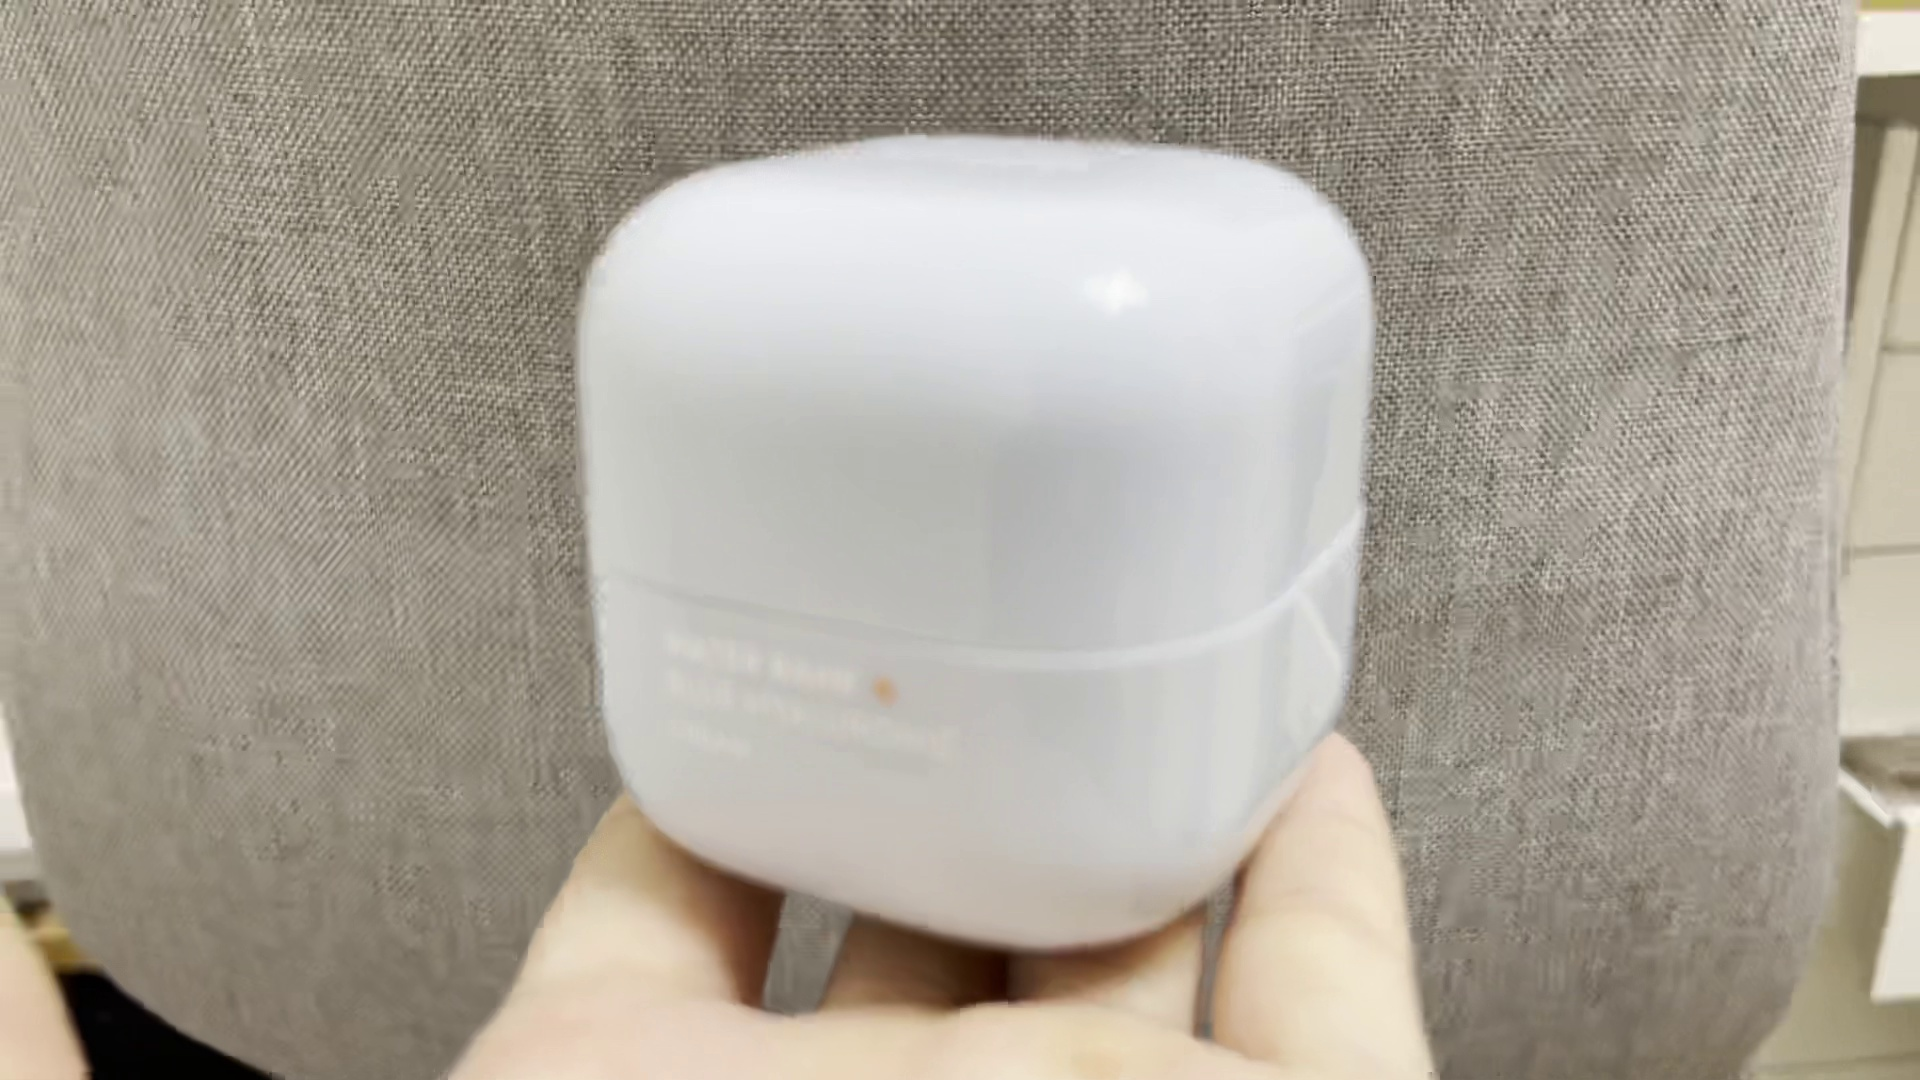cream: (578, 140, 1374, 945)
